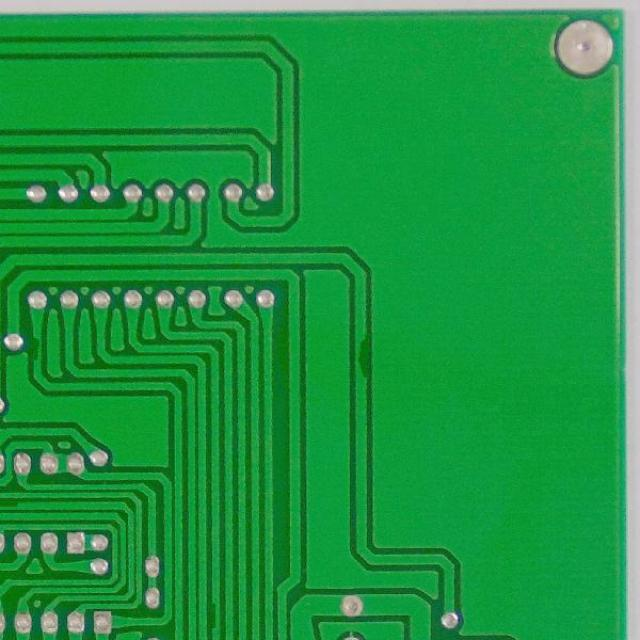MouseBite: (350, 330, 372, 383), (206, 595, 222, 636), (29, 332, 44, 365), (0, 497, 27, 513)
